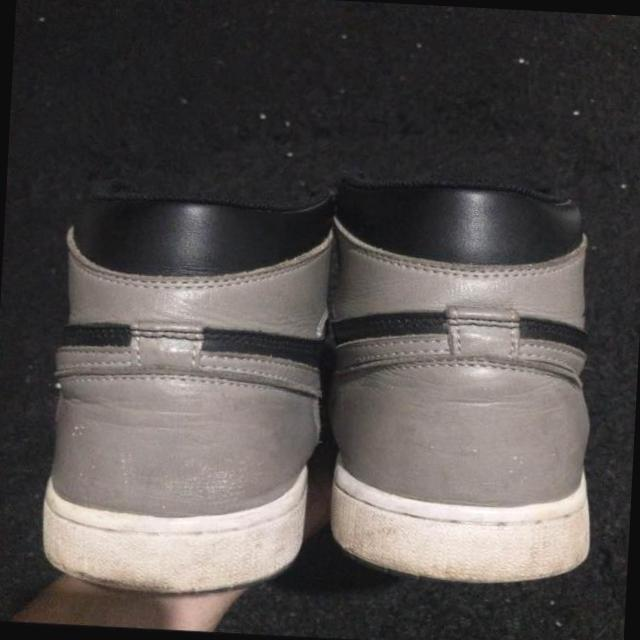nike_fake_jordan: (36, 184, 342, 606), (302, 179, 614, 592)
